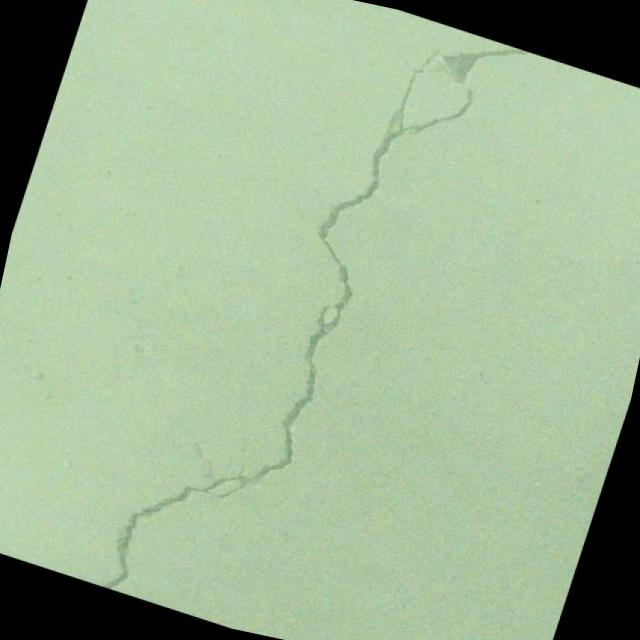crack: (96, 0, 533, 640)
